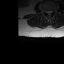CCS_normal: (48, 8, 50, 16)
LFS_normal: (51, 8, 54, 14)
LLS_normal: (50, 8, 51, 15)
RFS_normal: (44, 8, 46, 14)
RLS_normal: (46, 8, 48, 15)
